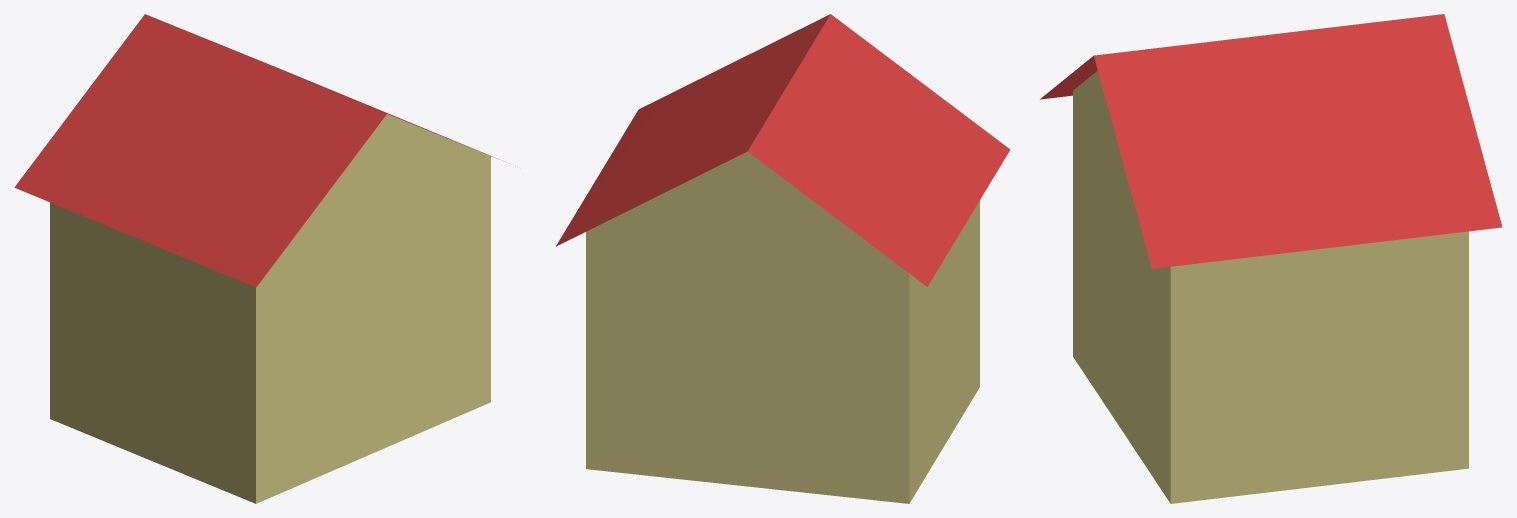
3 renders of one model, left to right at view 1: azimuth 30°, elevation 25°; view 2: azimuth 150°, elevation 25°; view 3: azimuth 270°, elevation 25°, orthographic. The views are drawn at different scales.
Parts seen in each view (by area): view 1: group_5, group_3, group_4; view 2: group_5, group_3, group_4; view 3: group_5, group_3, group_4.
Boxes of the visible parts, <box> form: group_5: <box>50,114,490,503</box>; group_3: <box>50,14,468,287</box>; group_4: <box>14,16,506,286</box>; group_5: <box>586,151,979,503</box>; group_3: <box>556,14,1010,283</box>; group_4: <box>556,14,1009,286</box>; group_5: <box>1073,70,1468,503</box>; group_3: <box>1045,14,1502,267</box>; group_4: <box>1040,14,1501,268</box>.
Size of the model in its own units: 13.75 by 12.76 by 11.4.
